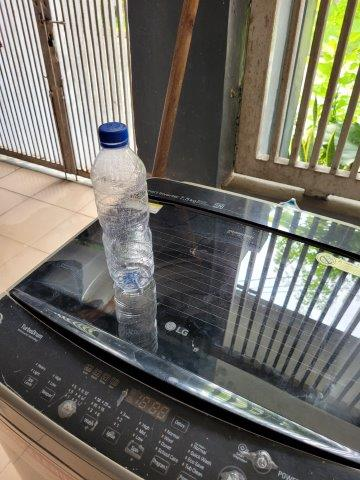botolplastik: (93, 122, 155, 285)
